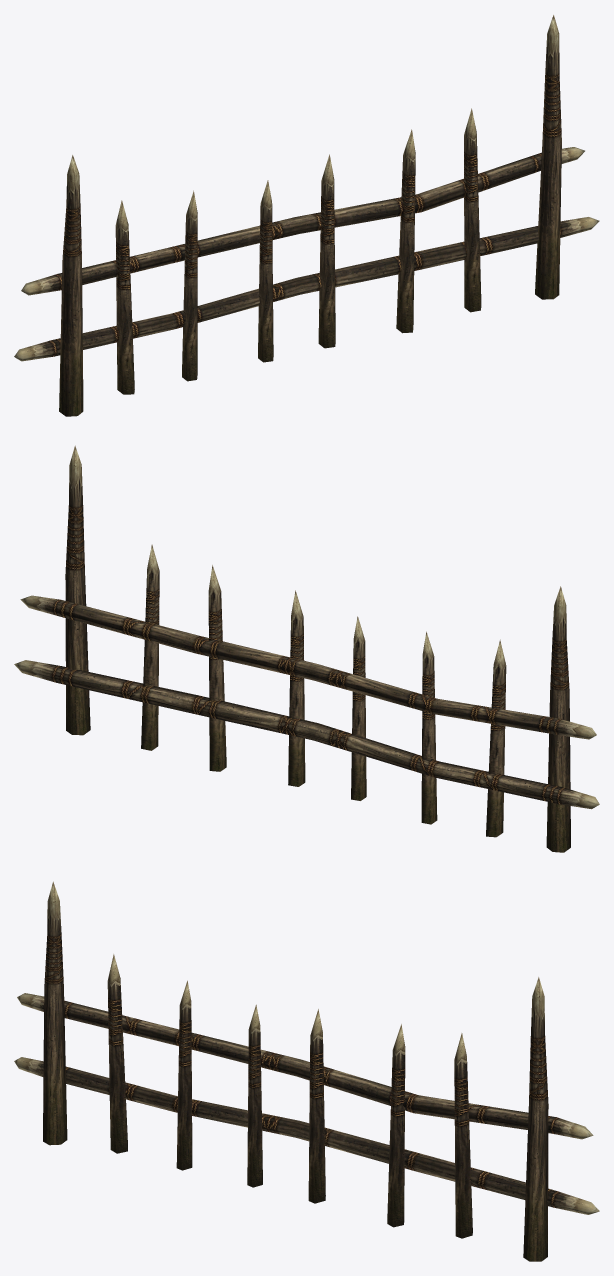
Rendered from gaint_fence05_d.glb.
3 renders of one model, top to bottom at view 1: azimuth 30°, elevation 25°; view 2: azimuth 150°, elevation 25°; view 3: azimuth 330°, elevation 25°, orthographic.
Parts seen in each view (by area): view 1: gaint_fence05; view 2: gaint_fence05; view 3: gaint_fence05.
Boxes of the visible parts, x1,y1,x2,y2 form: gaint_fence05: [14, 15, 599, 416]; gaint_fence05: [14, 445, 599, 852]; gaint_fence05: [14, 881, 599, 1261].
Size of the model in its own units: 9.78 by 4.52 by 0.618.
1 material, 1 textured.
